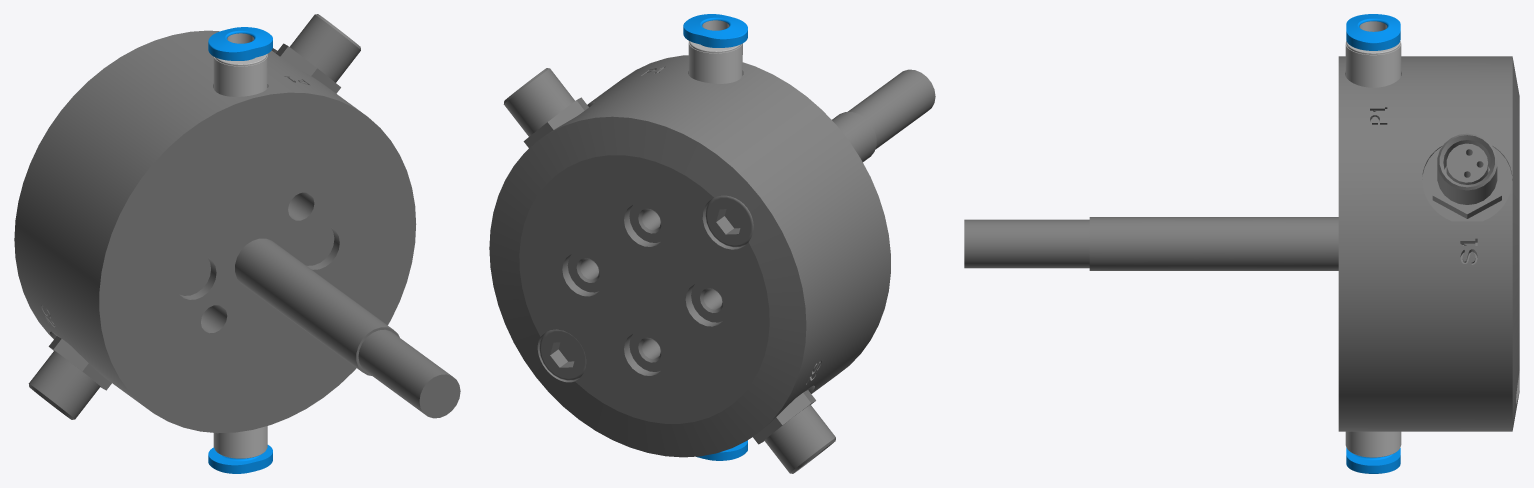
The model's file is swiwel_v2.obj.
The picture shows the model from 3 angles, left to right: view 1: azimuth 30°, elevation 25°; view 2: azimuth 150°, elevation 25°; view 3: azimuth 270°, elevation 25°; orthographic projection. The views are drawn at different scales.
Parts seen in each view (by area): view 1: Solid9, Solid14, Solid15; view 2: Solid9, Solid14, Solid15; view 3: Solid9, Solid14, Solid15.
Part boxes in pixels (left/top/right/bottom): Solid9: left=14, top=14, right=460, bottom=433; Solid14: left=208, top=27, right=272, bottom=96; Solid15: left=208, top=426, right=272, bottom=473; Solid9: left=489, top=55, right=935, bottom=473; Solid14: left=683, top=14, right=747, bottom=83; Solid15: left=696, top=440, right=747, bottom=460; Solid9: left=964, top=56, right=1519, bottom=431; Solid14: left=1345, top=14, right=1401, bottom=87; Solid15: left=1345, top=431, right=1401, bottom=473.
Size of the model in its own units: 0.0549 by 0.0694 by 0.0798.
